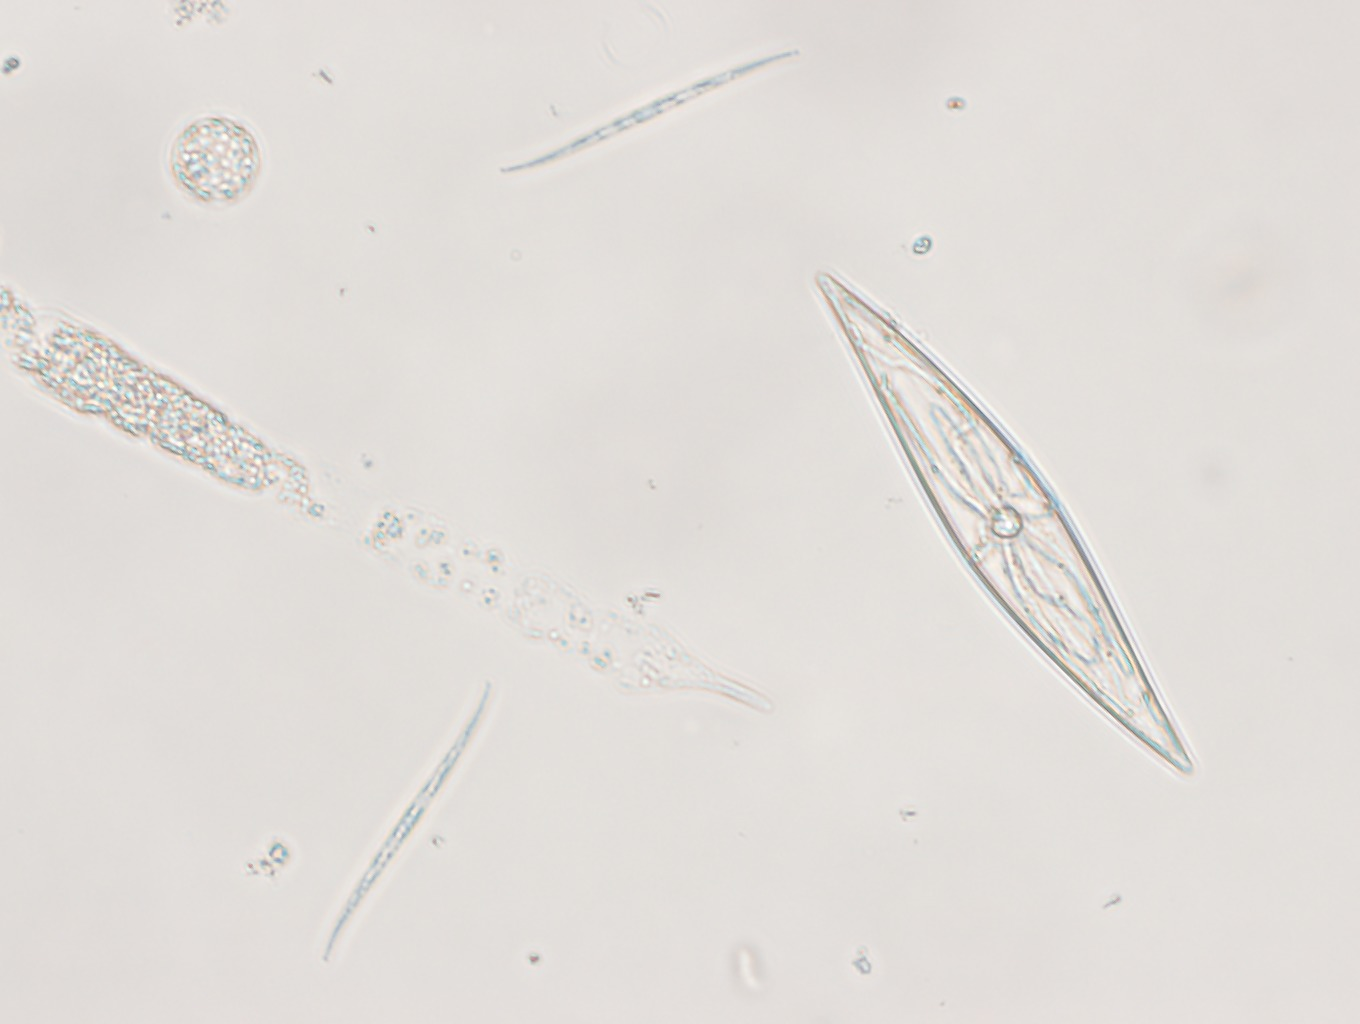navicula: (805, 267, 1207, 795)
pleurosigma pelagicum: (307, 675, 497, 964), (493, 40, 806, 177)
